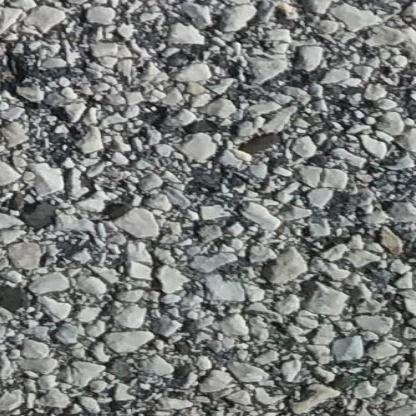Cracks: (0, 50, 73, 126)
